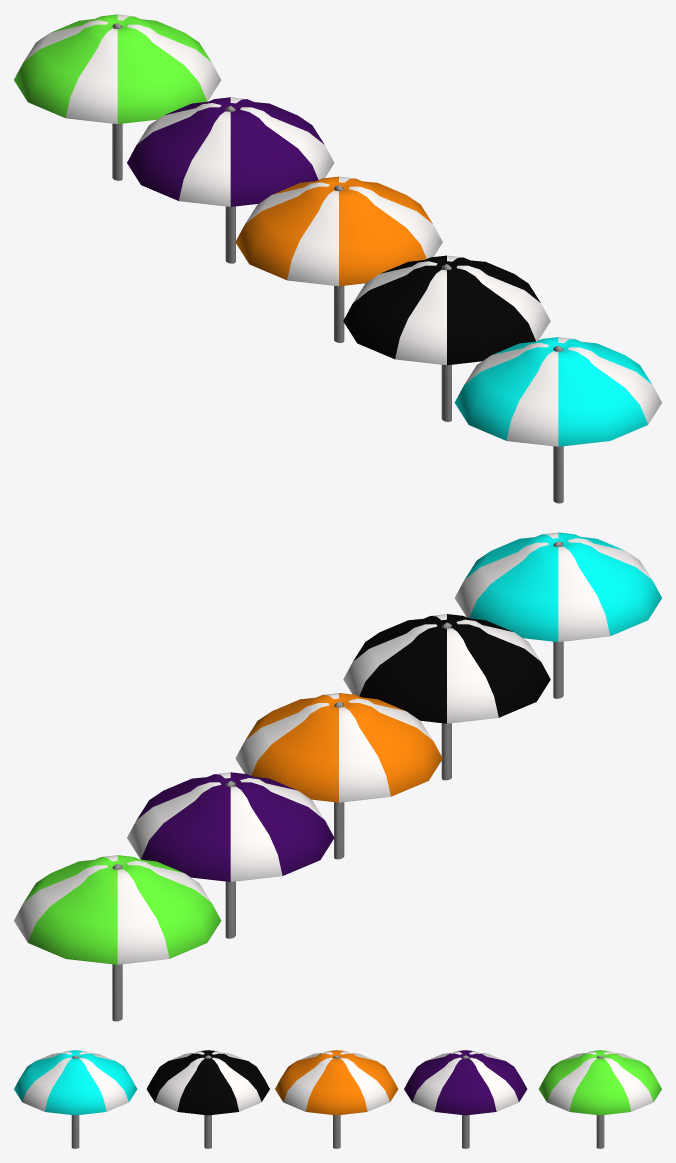
Rendered from guardasol2.fbx.
3 renders of one model, top to bottom at view 1: azimuth 30°, elevation 25°; view 2: azimuth 150°, elevation 25°; view 3: azimuth 270°, elevation 25°, orthographic. The views are drawn at different scales.
Parts seen in each view (by area): view 1: Cylinder.009, Cylinder.008, Cylinder.007, Cylinder.006, Cylinder.001; view 2: Cylinder.008, Cylinder.006, Cylinder.009, Cylinder.001, Cylinder.007; view 3: Cylinder.008, Cylinder.009, Cylinder.001, Cylinder.006, Cylinder.007.
Part boxes in pixels (<box>): Cylinder.009: <box>454,337,661,503</box>; Cylinder.008: <box>14,14,221,180</box>; Cylinder.007: <box>343,255,550,421</box>; Cylinder.006: <box>127,97,334,263</box>; Cylinder.001: <box>235,176,442,342</box>; Cylinder.008: <box>14,855,221,1021</box>; Cylinder.006: <box>127,772,334,938</box>; Cylinder.009: <box>454,532,661,698</box>; Cylinder.001: <box>235,693,442,859</box>; Cylinder.007: <box>343,614,550,780</box>; Cylinder.008: <box>538,1050,661,1148</box>; Cylinder.009: <box>14,1050,137,1148</box>; Cylinder.001: <box>275,1050,398,1148</box>; Cylinder.006: <box>404,1050,527,1148</box>; Cylinder.007: <box>146,1050,269,1148</box>.
Size of the model in its own units: 299 by 247 by 1569.
Materials: 5 (5 with a texture image).
